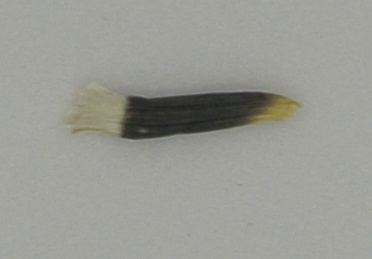เมล็ดดีติดกัน: (60, 79, 304, 144)
